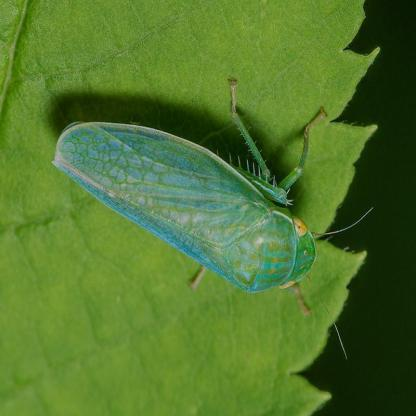green-leafhopper: (54, 101, 329, 294)
